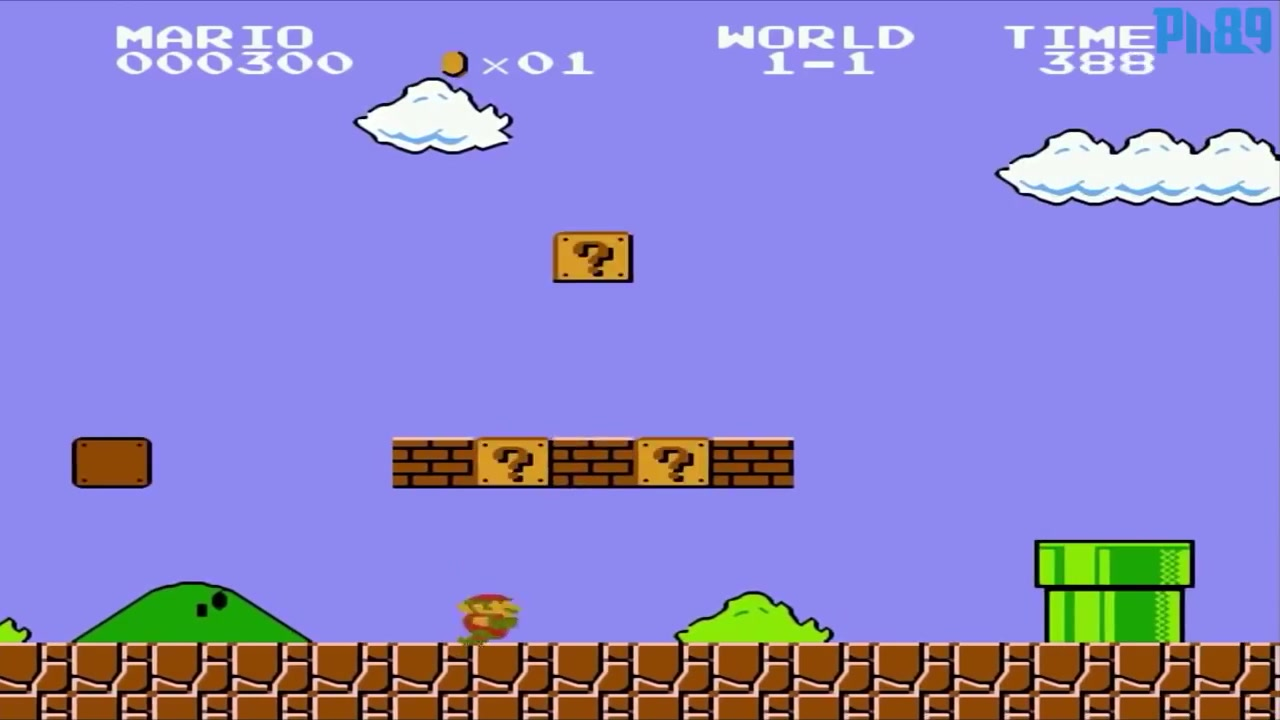mario: (441, 583, 519, 649)
